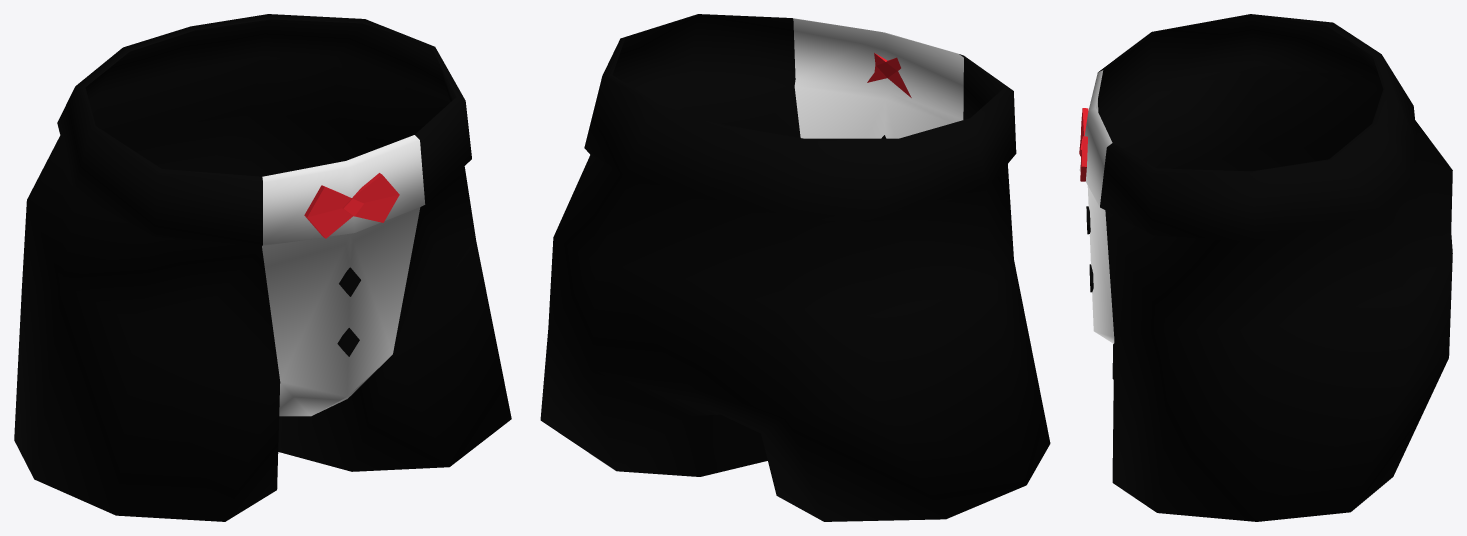
The model's file is UnderPants06.fbx.
3 views of the same model, side by side, from view 1: azimuth 30°, elevation 25°; view 2: azimuth 150°, elevation 25°; view 3: azimuth 270°, elevation 25° (orthographic). The views are drawn at different scales.
Visible parts, largest first — view 1: UnderPants06; view 2: UnderPants06; view 3: UnderPants06.
Boxes of the visible parts, x1,y1,x2,y2 form: UnderPants06: (14, 14, 511, 521); UnderPants06: (540, 14, 1050, 521); UnderPants06: (1079, 14, 1452, 521).
Size of the model in its own units: 37.53 by 29.79 by 28.16.
